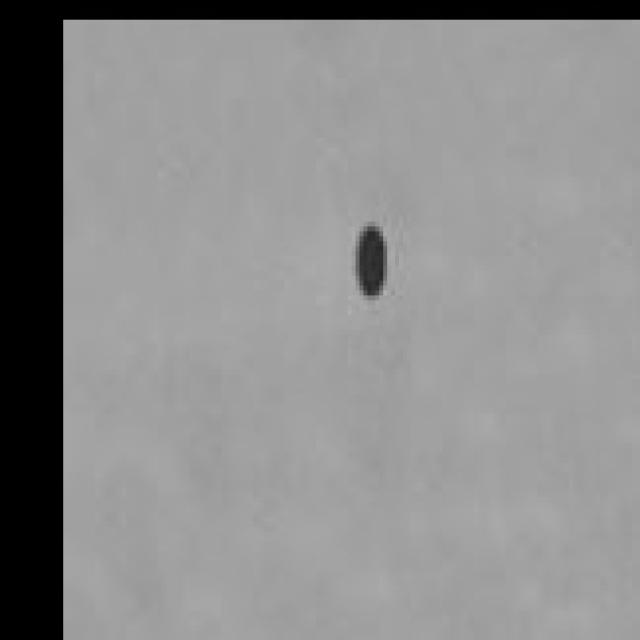Defect3: (319, 194, 424, 330)
